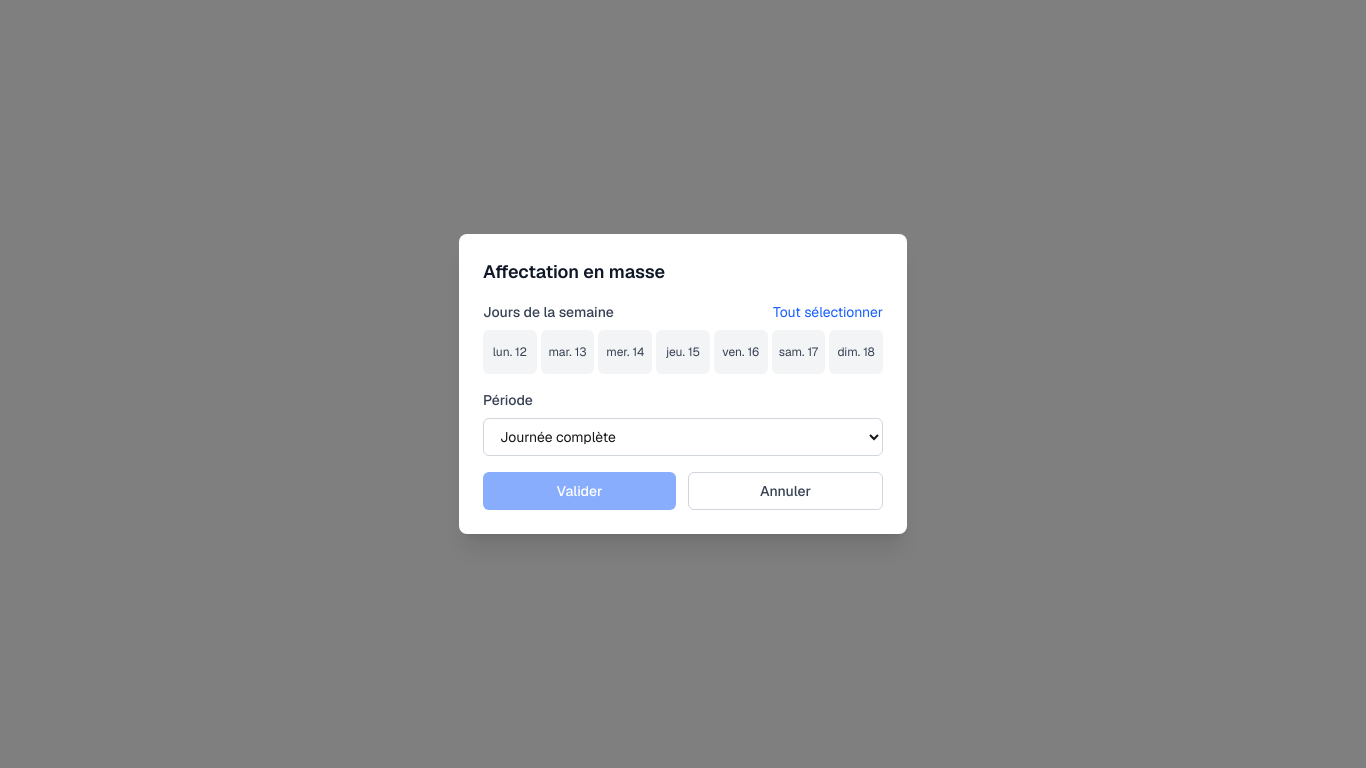
it: ModalAffectationMultiJours › Tout sélectionner (AC: 3) › should select all days when "Tout sélectionner" is clicked
Click the button "Tout sélectionner": coordinates (828, 312) top-left (773, 302), bottom-right (883, 322)
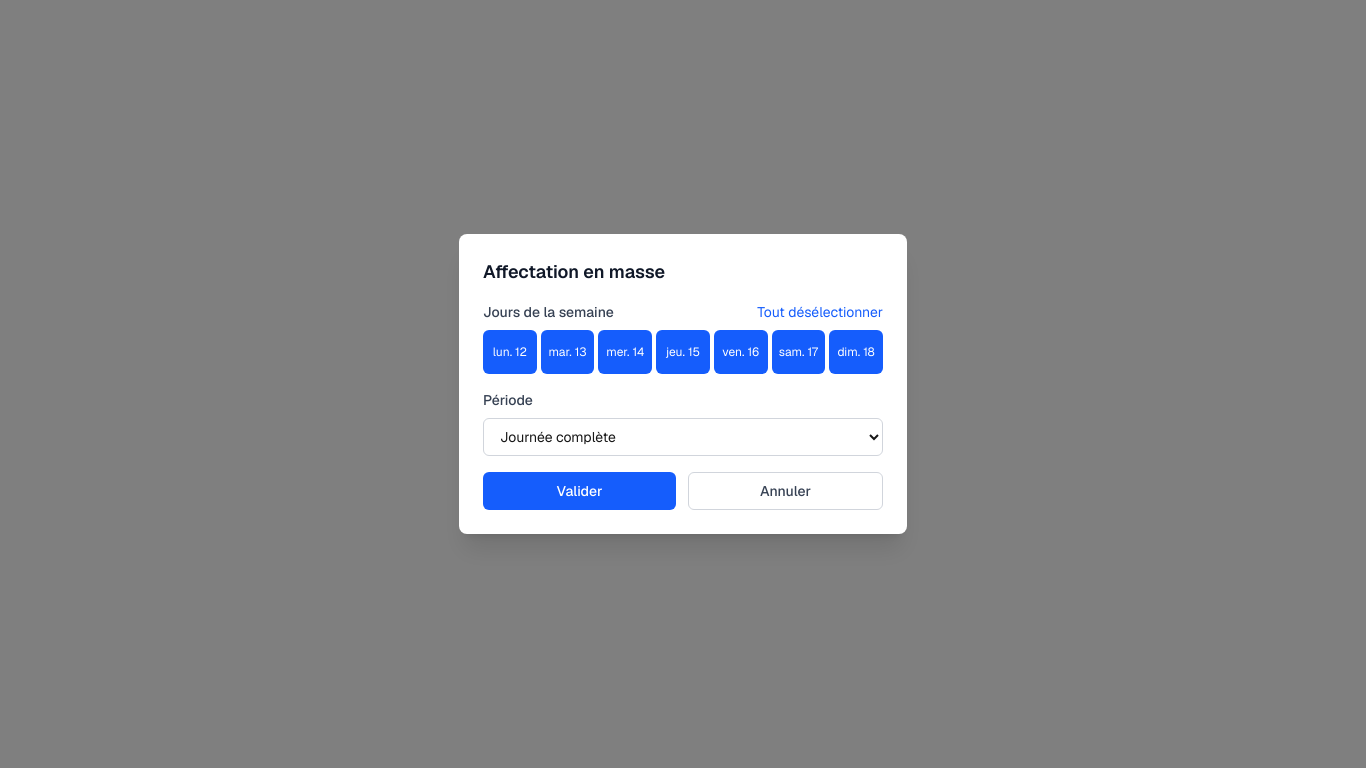
Expected: the button "Tout désélectionner" is shown, top-left (757, 302), bottom-right (883, 322)
